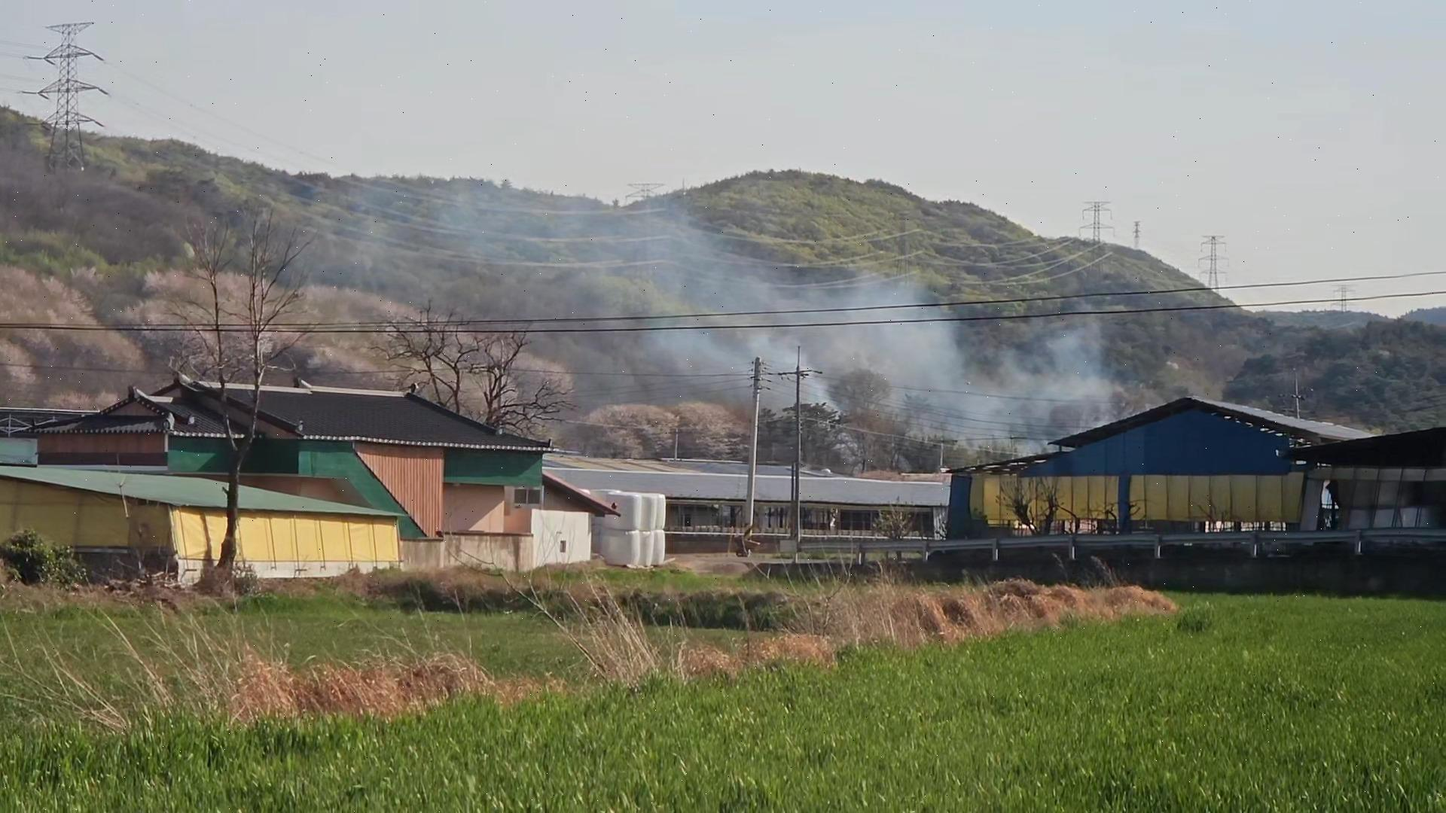smoke: (577, 213, 1096, 451)
